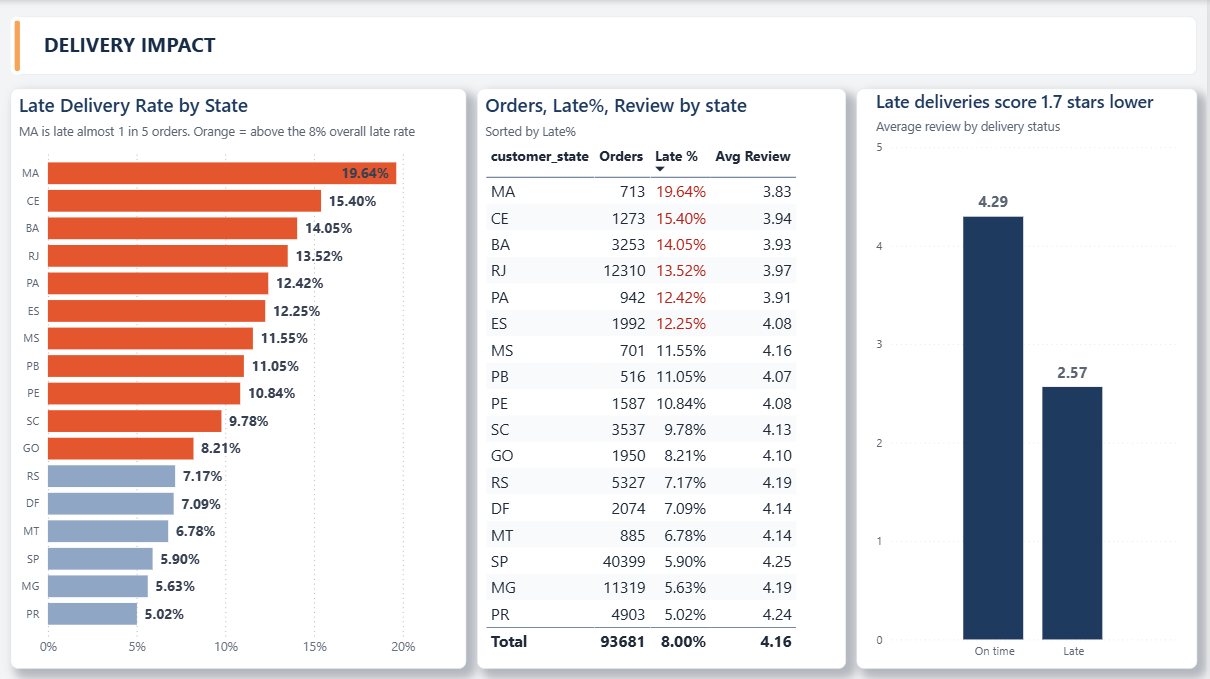

What the dashboard file says about the page in this screenshot:
{"tool":"powerbi","page":{"name":"Delivery impact","canvas":[1280,720],"ordinal":2},"visuals":[{"type":"barChart","title":"Late Delivery Rate by State","fields":{"Y":["_Measures.Late %"],"Category":["fact_orders.customer_state"]},"box":[11.1,93.8,483.5,615.6],"z":0},{"type":"tableEx","title":"Orders, Late%, Review by state","fields":{"Values":["fact_orders.customer_state","_Measures.Orders","_Measures.Late %","_Measures.Avg Review"]},"box":[505.8,93.8,391.3,615.6],"z":1000},{"type":"clusteredColumnChart","title":"Late deliveries score 1.7 stars lower","fields":{"Category":["fact_orders.Delivery Status"],"Y":["_Measures.Avg Review"]},"box":[908.2,93.8,361.1,615.6],"z":2000},{"type":"textbox","box":[11.1,17.5,1258.2,62],"z":3000},{"type":"shape","box":[11.1,17.5,14.3,62],"z":4000}]}

Visuals, with their boxes in screenshot pixels (x1, y1, x2, y2), scaled from the page's 1280x720 canvas onto the 1210x679 screenshot:
"Late Delivery Rate by State" barChart: Rect(10, 88, 468, 669)
"Orders, Late%, Review by state" tableEx: Rect(478, 88, 848, 669)
"Late deliveries score 1.7 stars lower" clusteredColumnChart: Rect(859, 88, 1200, 669)
textbox: Rect(10, 17, 1200, 75)
shape: Rect(10, 17, 24, 75)
